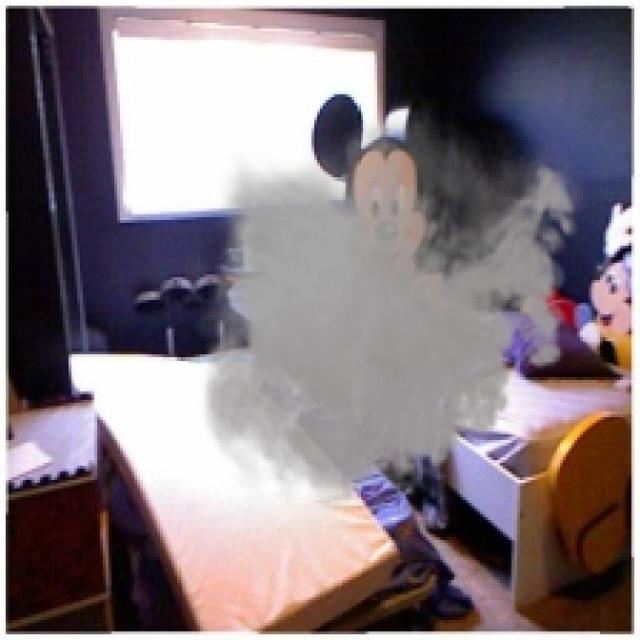smoke: (188, 97, 588, 523)
